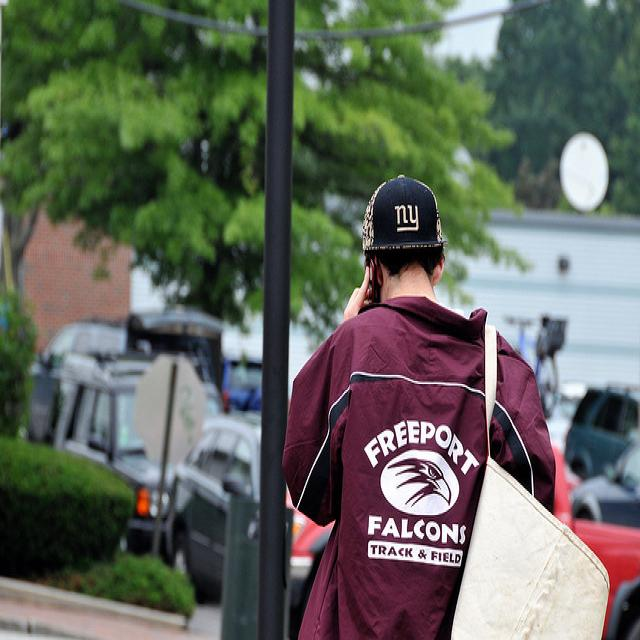Vehicle: (158, 408, 337, 640), (52, 348, 180, 571), (39, 351, 160, 551), (551, 446, 640, 639), (563, 387, 640, 483), (568, 436, 640, 527), (38, 317, 128, 373), (21, 355, 60, 442), (222, 357, 262, 414)
